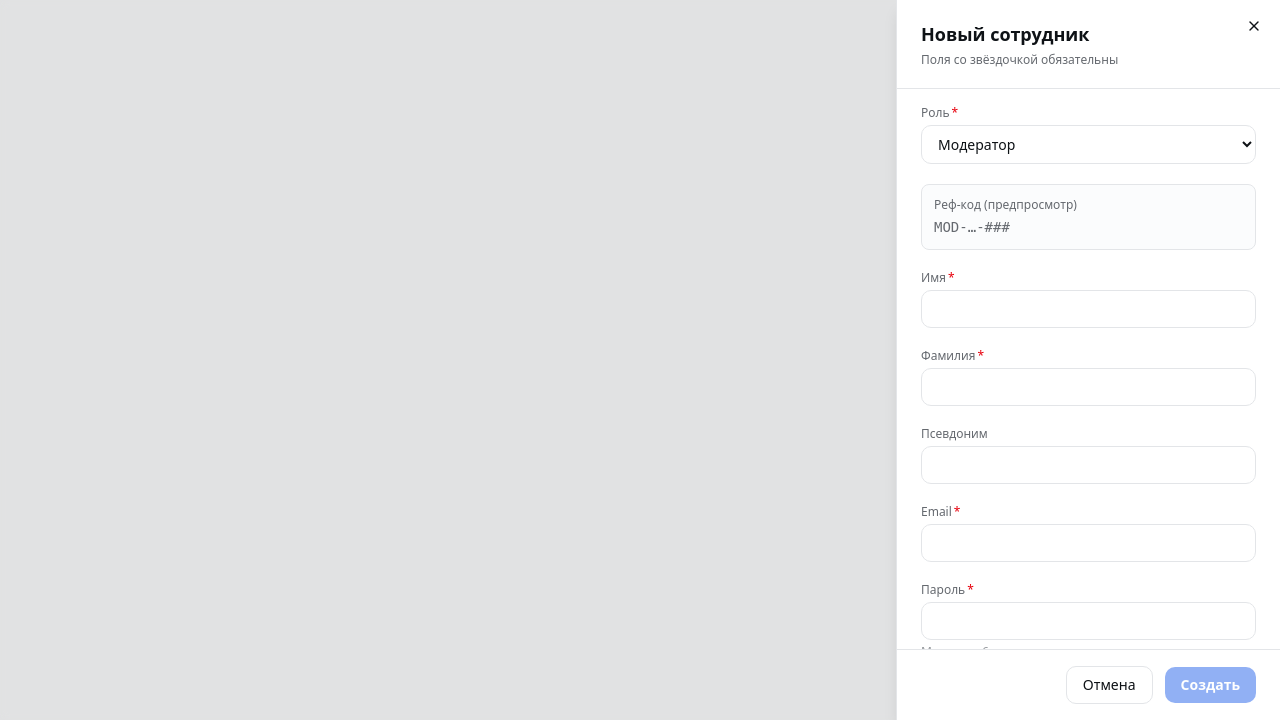
Test: <CreateStaffSlideOut> › enables submit when all required fields are filled
This screenshot has width=1280, height=720.
Type "Иван" into the field labelled "Имя*". click: (1088, 309)
box: x1=921 y1=290 x2=1256 y2=328
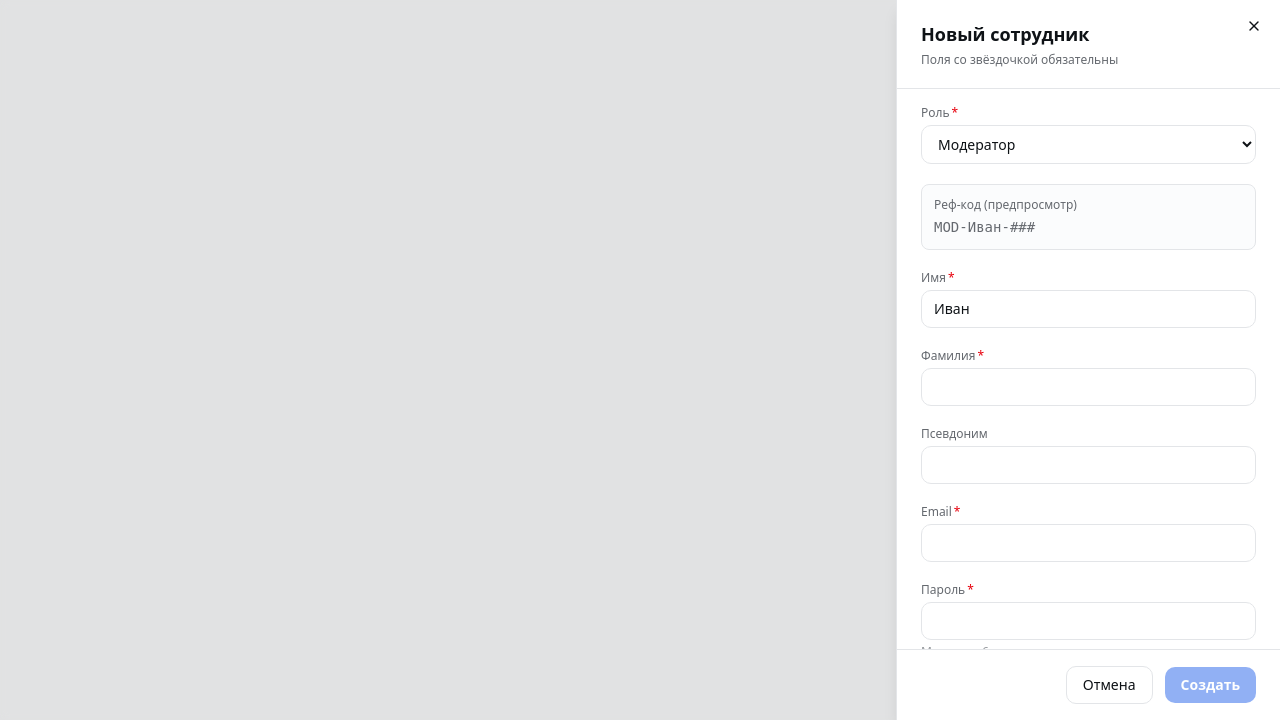
Type "Петров" into the field labelled "Фамилия*". click: (1088, 387)
box: x1=921 y1=368 x2=1256 y2=406
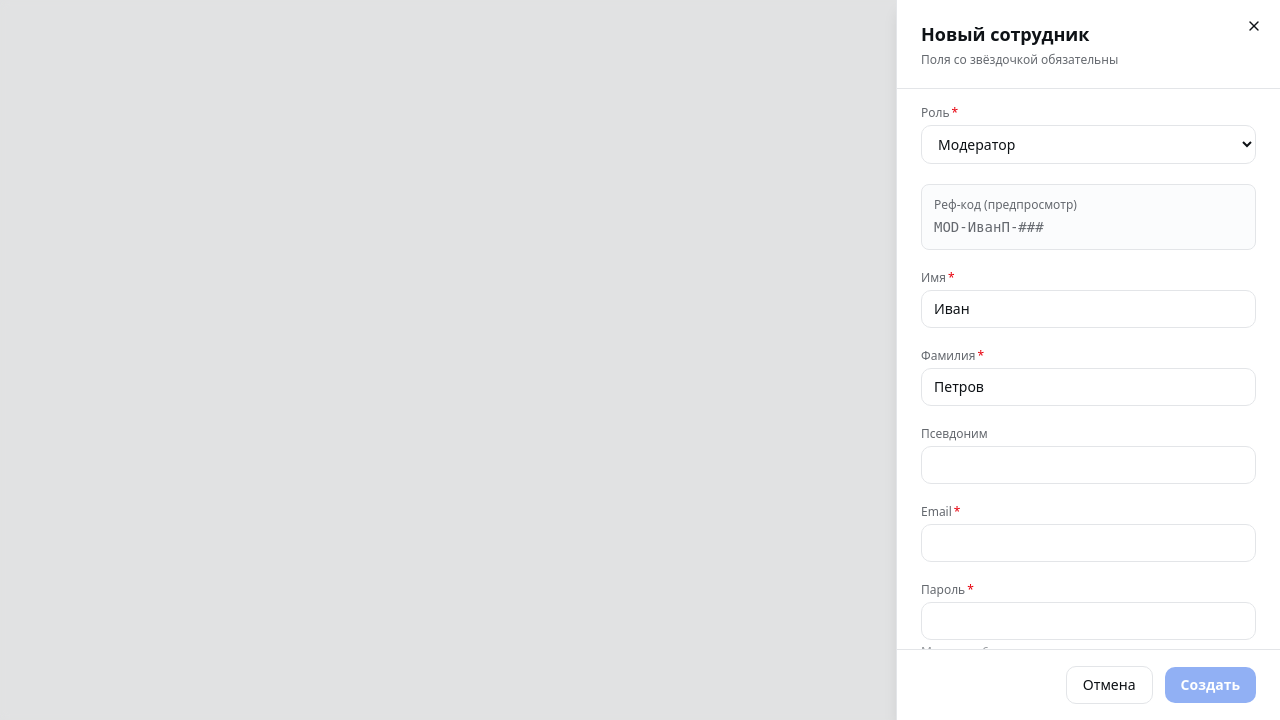
Type "i@example.com" into the field labelled "Email*". click: (1088, 543)
box: x1=921 y1=524 x2=1256 y2=562
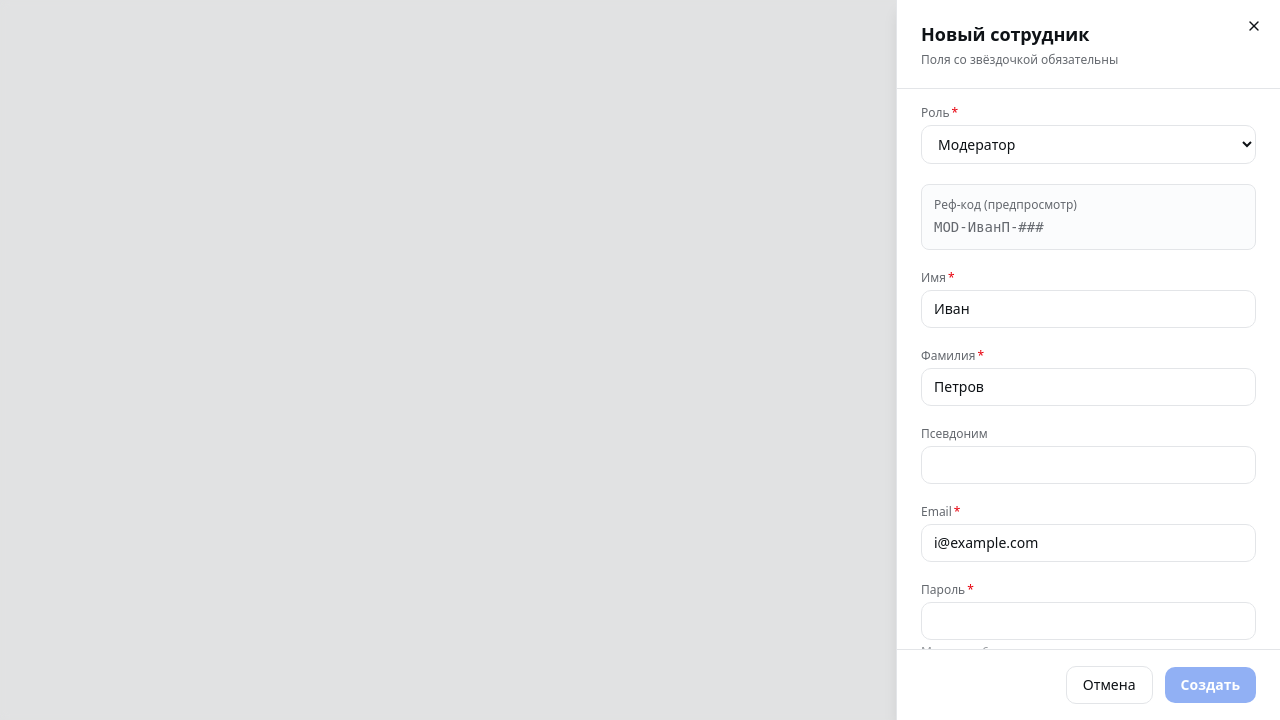
Type "secret123" into the password field labelled "Пароль* Минимум 6 символов". click: (1088, 621)
box: x1=921 y1=602 x2=1256 y2=640
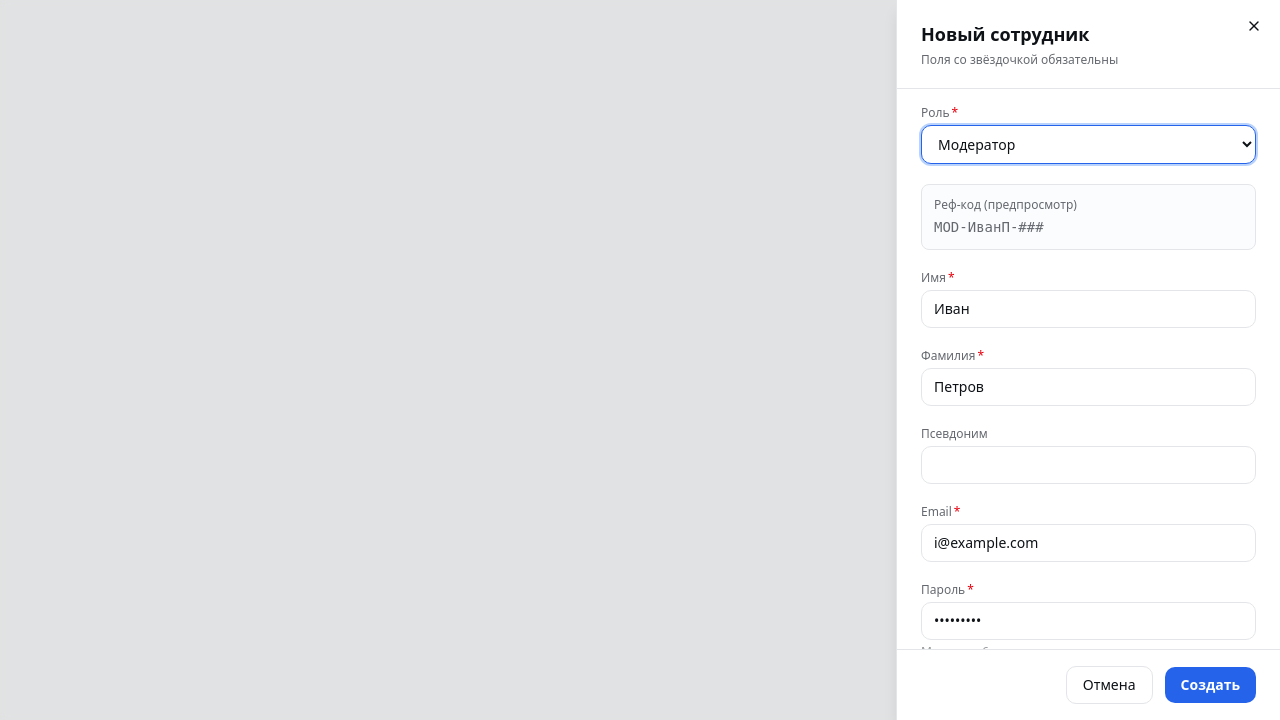
Check: the button "Создать" is enabled, box x1=1164 y1=667 x2=1256 y2=703
